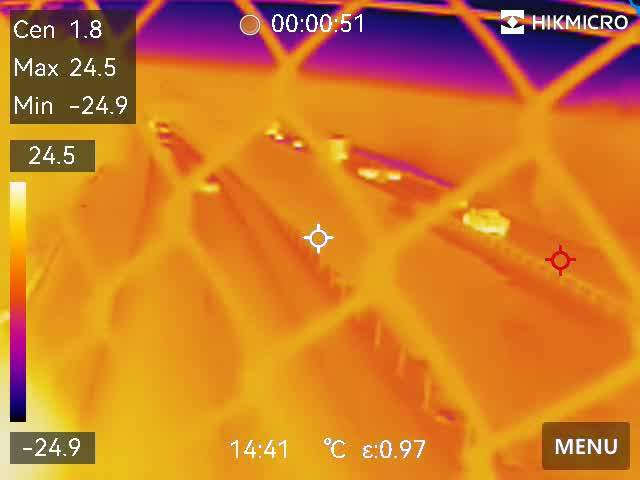vehicle: (458, 202, 511, 237)
